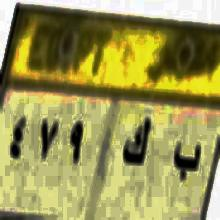4: (7, 116, 28, 166)
7: (38, 115, 60, 169)
9: (66, 111, 84, 170)
baa: (169, 130, 202, 194)
kaaf: (121, 114, 151, 175)
